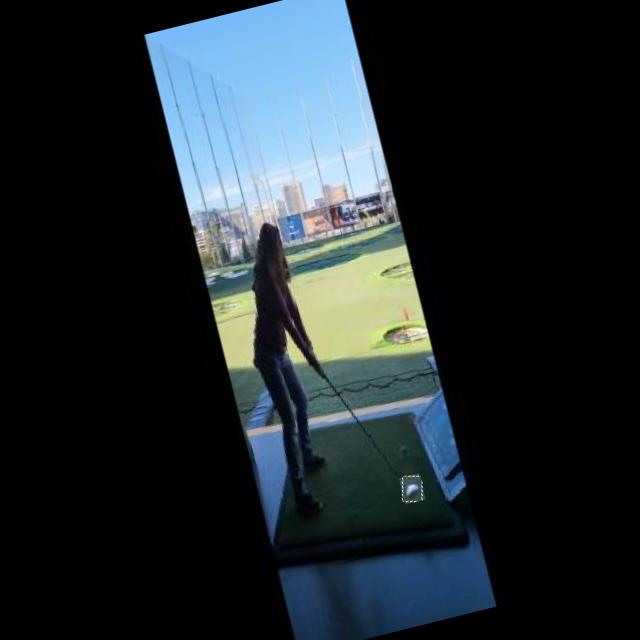club head: (398, 473, 426, 504)
